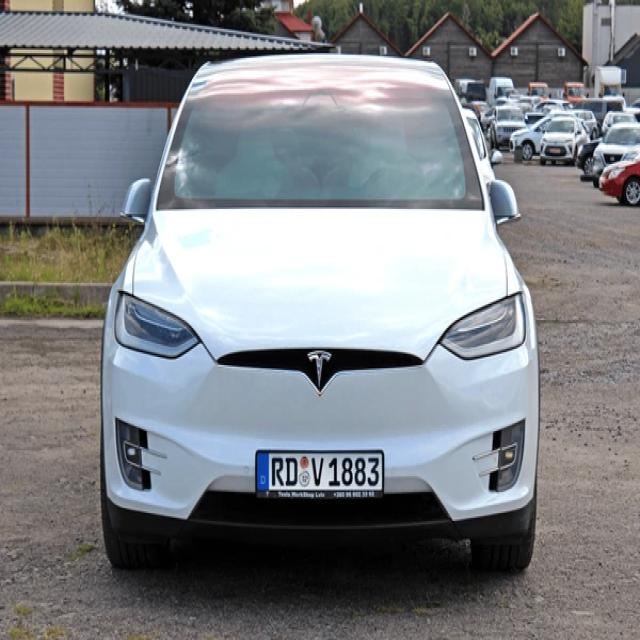tesla: (307, 347, 335, 392)
